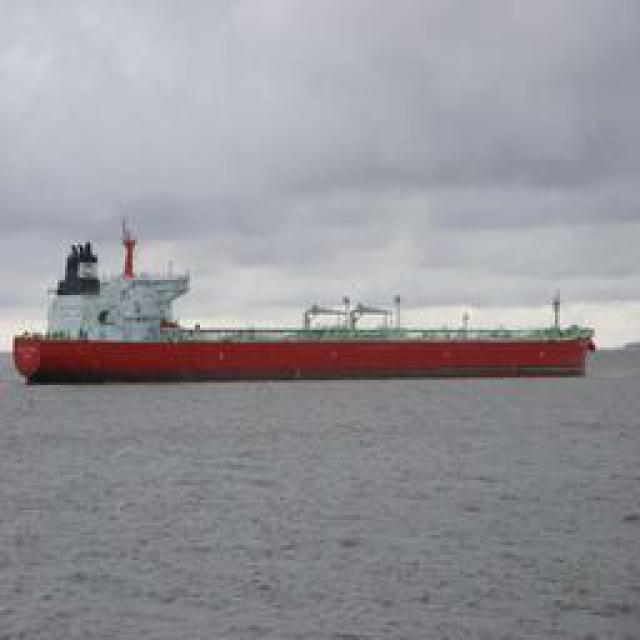Ship: (4, 296, 594, 384)
